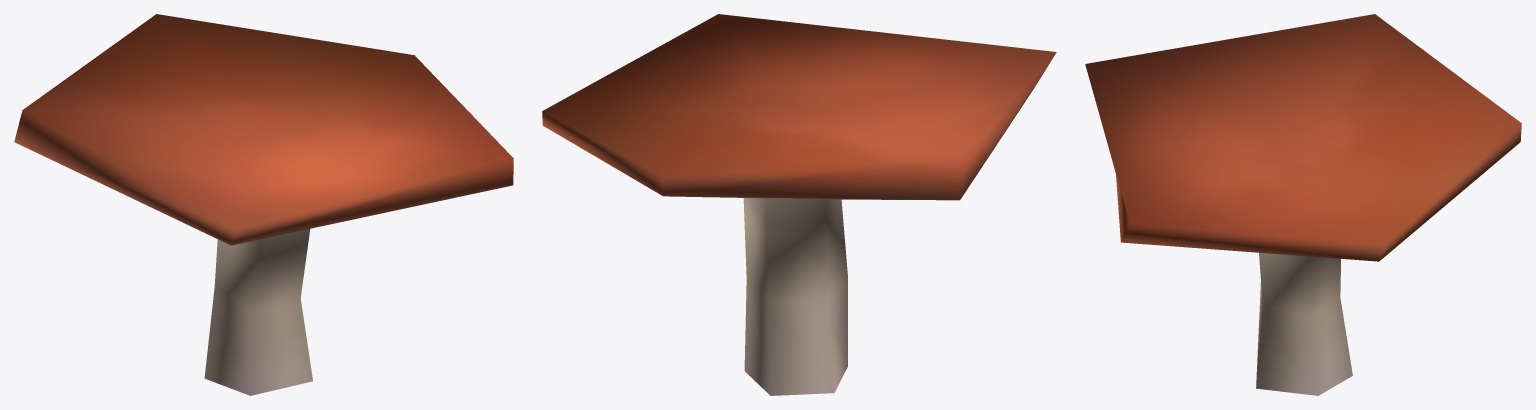
Rendered from Milk_mushroom01.fbx.
3 views of the same model, side by side, from view 1: azimuth 30°, elevation 25°; view 2: azimuth 150°, elevation 25°; view 3: azimuth 270°, elevation 25° (orthographic). The views are drawn at different scales.
Visible parts, largest first — view 1: Milk_mushroom01; view 2: Milk_mushroom01; view 3: Milk_mushroom01.
Boxes of the visible parts, x1,y1,x2,y2 form: Milk_mushroom01: (14,14,513,395); Milk_mushroom01: (542,14,1056,395); Milk_mushroom01: (1085,14,1521,395).
Size of the model in its own units: 54.84 by 36.79 by 53.78.
